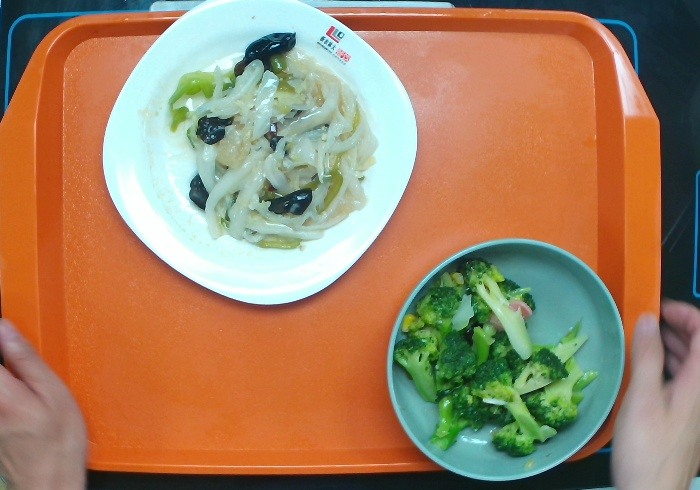ZNLD-Qing_Hua_Yuan_Wan: (377, 230, 637, 490)
ZNLD-Yuan_Jiao_Pan: (97, 1, 422, 309)
